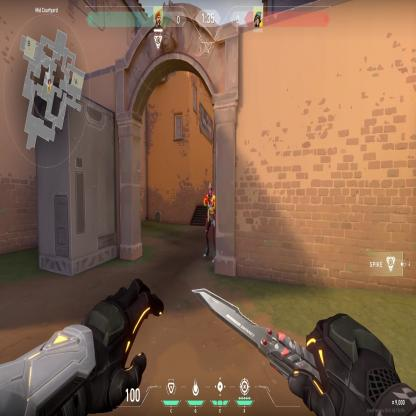enemy: (202, 180, 218, 266)
